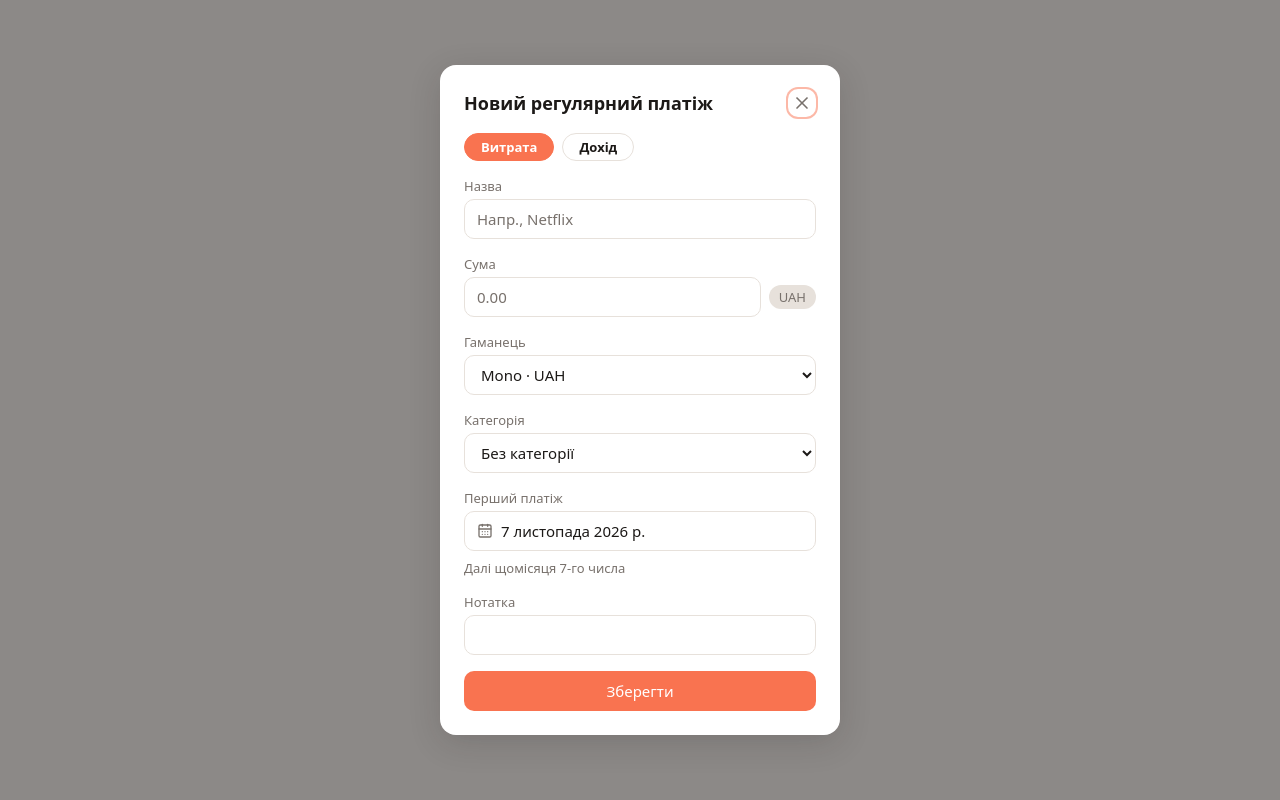
Test: RecurringDialog › explains short months for days 29–31
Click the button with aria-label "Перший платіж" at (640, 531), box [464,511,816,551]
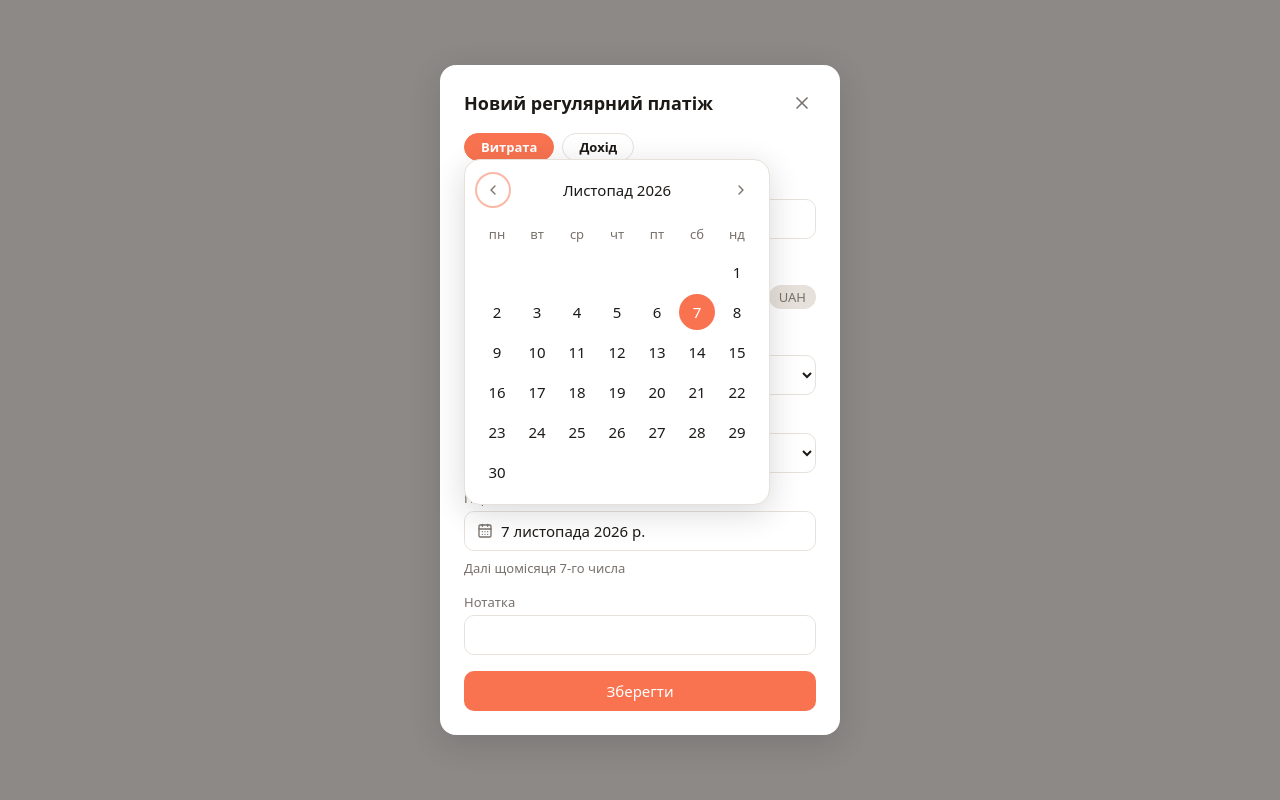
Click the button named "Наступний місяць" at (741, 190), box [725,174,757,206]
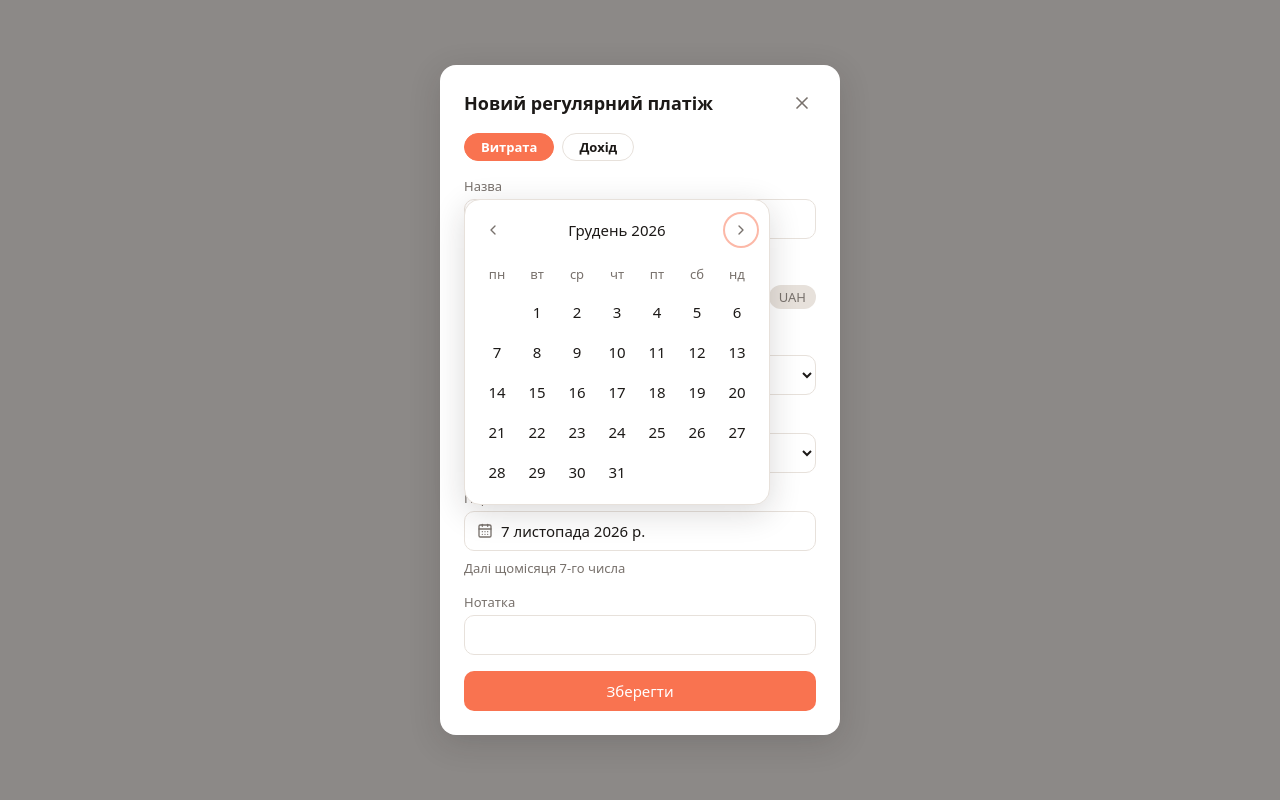
Click the button "31" at (617, 472), box [599,454,635,490]
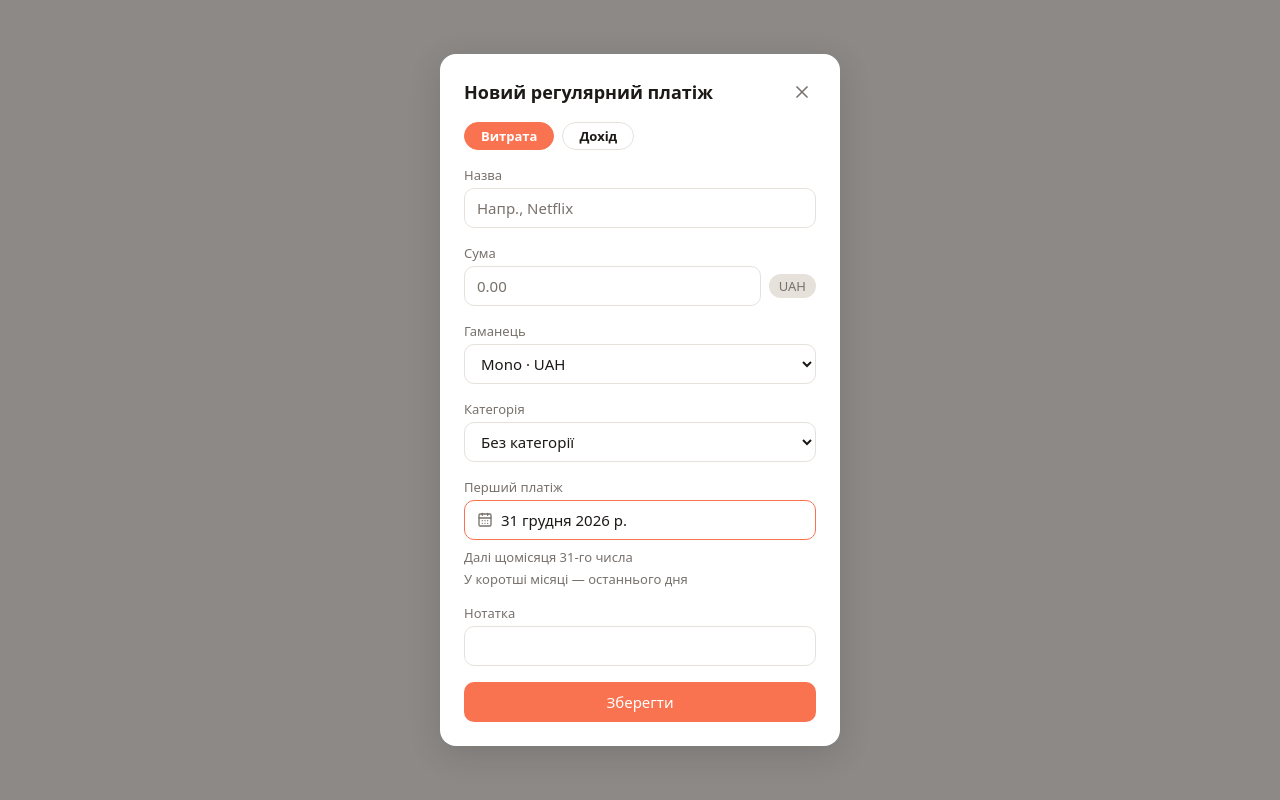
Expected: the text "У коротші місяці — останнього дня" is shown, [464,570,688,588]
